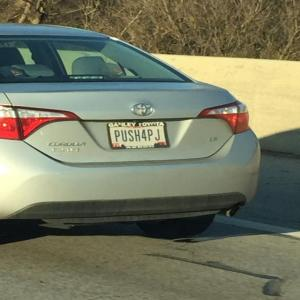Plate: (108, 122, 168, 149)
